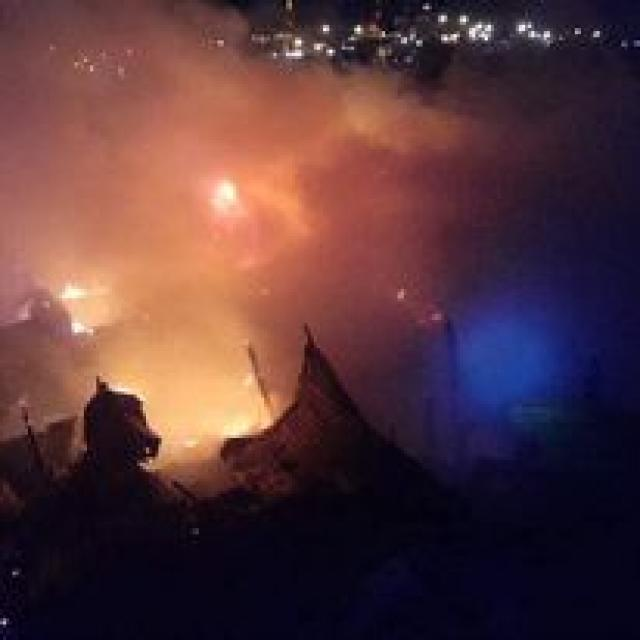Fire: (195, 388, 282, 444), (198, 166, 268, 220)
Smoke: (0, 21, 609, 392)
